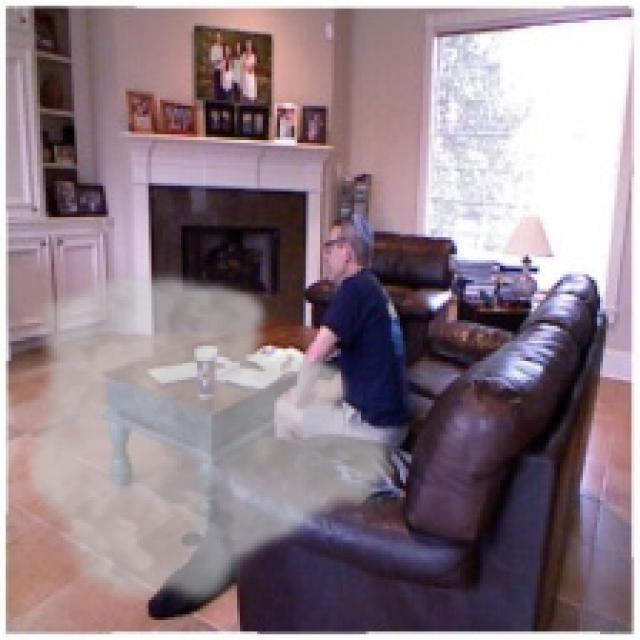smoke: (20, 266, 403, 614)
